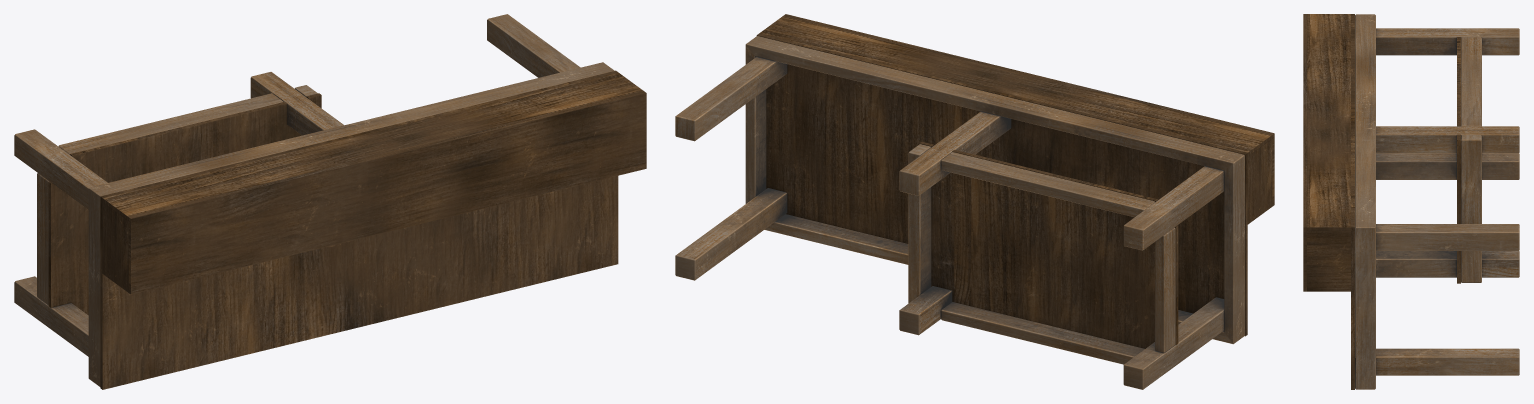
Rendered from bench.obj.
The picture shows the model from 3 angles, left to right: view 1: azimuth 30°, elevation 25°; view 2: azimuth 150°, elevation 25°; view 3: azimuth 270°, elevation 25°; orthographic projection. The views are drawn at different scales.
Visible parts, largest first — view 1: CardboardBox.002_ReloadingBench; view 2: CardboardBox.002_ReloadingBench; view 3: CardboardBox.002_ReloadingBench.
Boxes of the visible parts, x1,y1,x2,y2 form: CardboardBox.002_ReloadingBench: [14, 14, 646, 389]; CardboardBox.002_ReloadingBench: [675, 14, 1274, 389]; CardboardBox.002_ReloadingBench: [1303, 14, 1519, 389].
Size of the model in its own units: 2.44 by 0.8672 by 1.05.
Materials: 1 (1 with a texture image).
